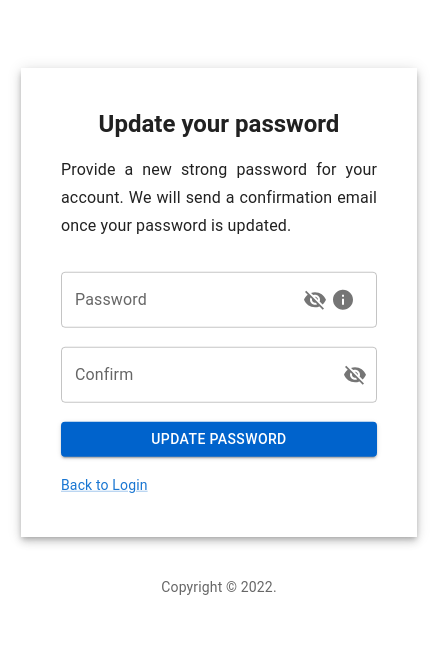
Test: Testing the resetPasswordConfirm view › Unauthorised user throws flash error and logs out
Click the button "Update Password": (219, 439) x1=61 y1=422 x2=377 y2=456
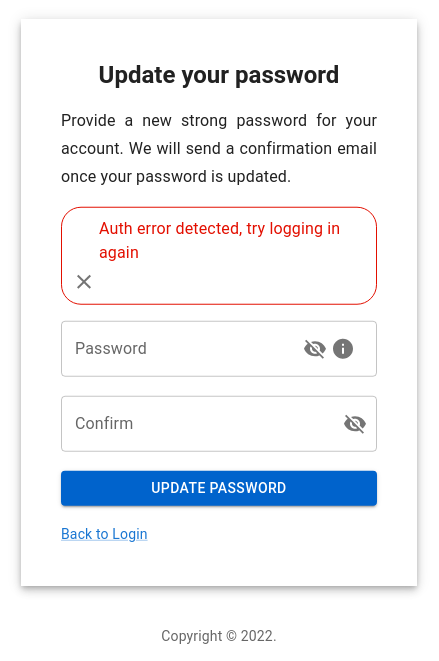
Now the text "Auth error detected, try logging in again" is shown, box x1=99 y1=219 x2=340 y2=262
